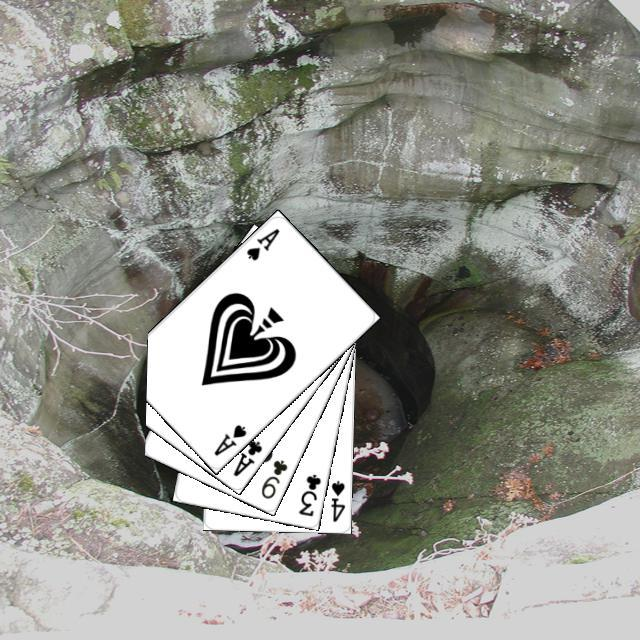3c: (294, 469, 323, 518)
4s: (326, 476, 347, 523)
9c: (256, 455, 289, 501)
Ac: (228, 435, 264, 478)
As: (208, 419, 248, 458), (241, 223, 281, 262)
